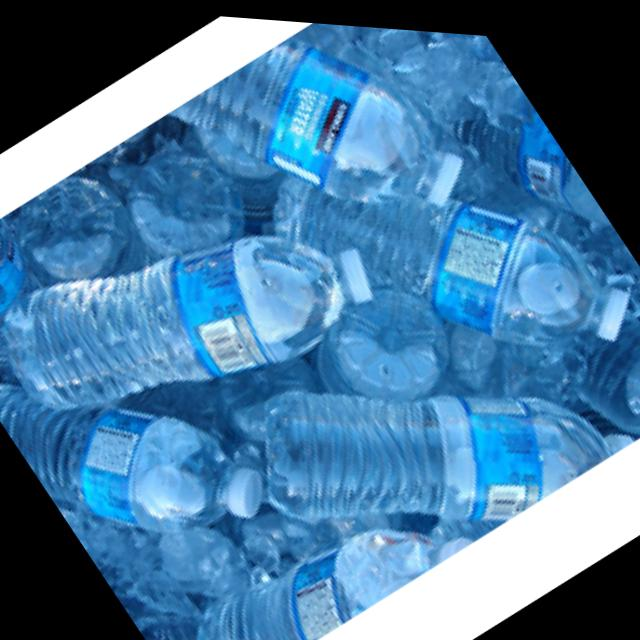plastic_water_bottles: (104, 162, 396, 445), (242, 14, 498, 267), (448, 161, 640, 391)
